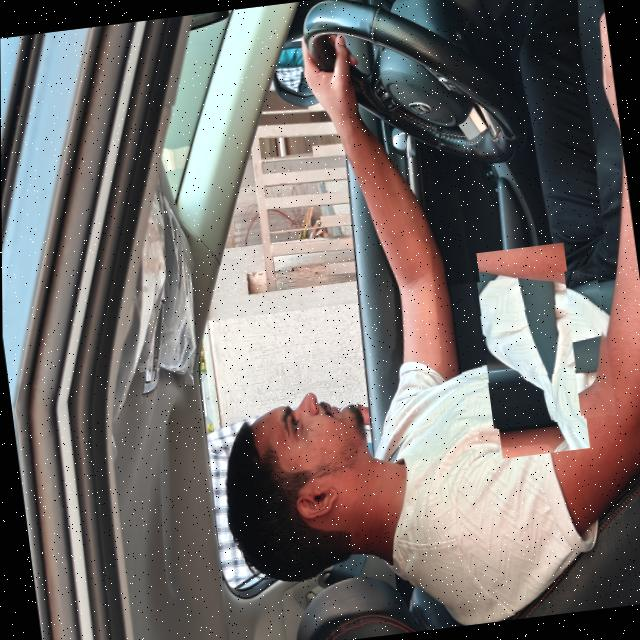seatbelt: (450, 266, 616, 431)
